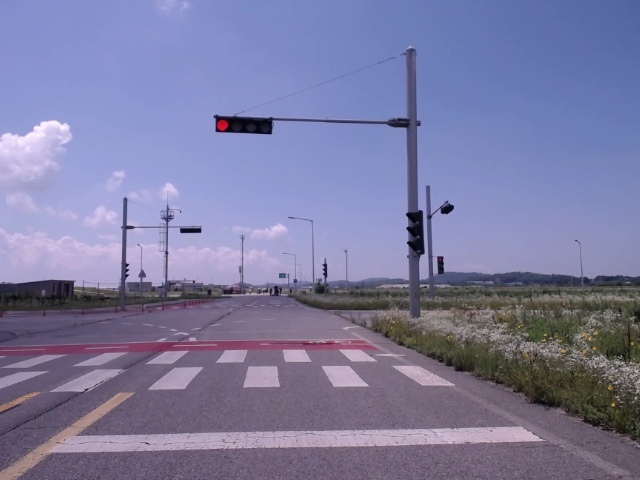red_4: (215, 116, 272, 134)
